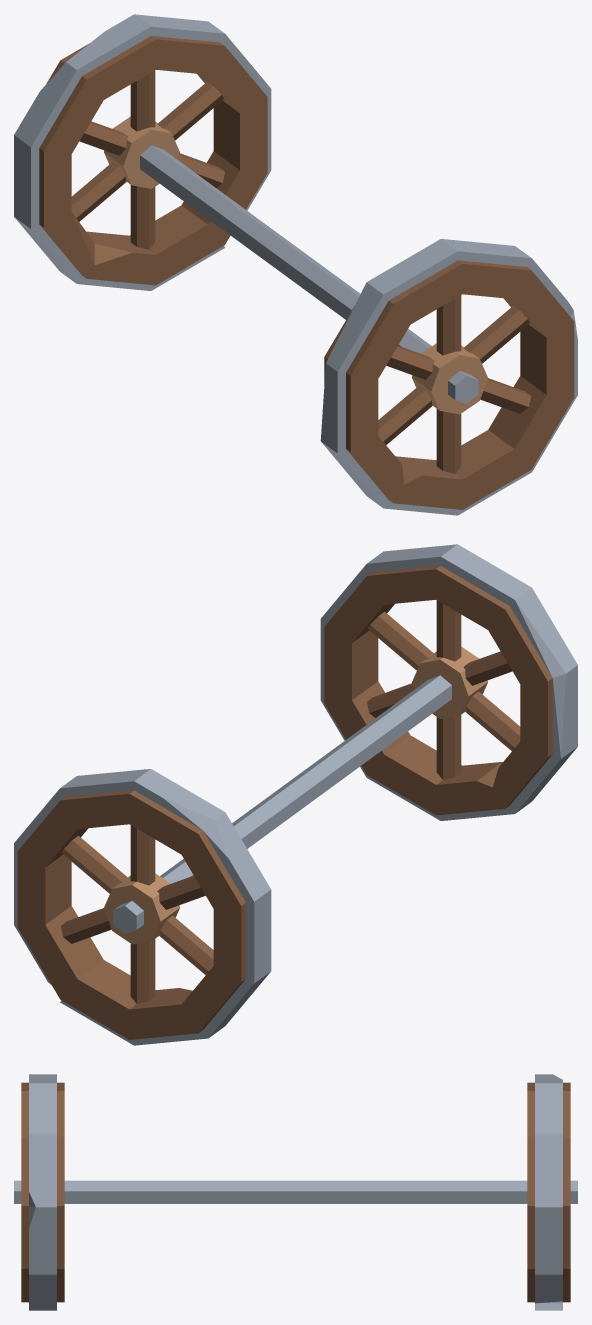
File: SM_Veh_Cart_01_Wheels_01.fbx
3 views of the same model, one above another, from view 1: azimuth 30°, elevation 25°; view 2: azimuth 150°, elevation 25°; view 3: azimuth 270°, elevation 25° (orthographic). The views are drawn at different scales.
Parts seen in each view (by area): view 1: SM_Veh_Cart_01_Wheels_01; view 2: SM_Veh_Cart_01_Wheels_01; view 3: SM_Veh_Cart_01_Wheels_01.
Part boxes in pixels (x1,y1,x2,y2): SM_Veh_Cart_01_Wheels_01: (14,14,577,515); SM_Veh_Cart_01_Wheels_01: (14,544,577,1045); SM_Veh_Cart_01_Wheels_01: (14,1074,577,1310).
Bounding box in the file's own units: 54.99 × 135 × 57.82.
Materials: 1 (1 with a texture image).
